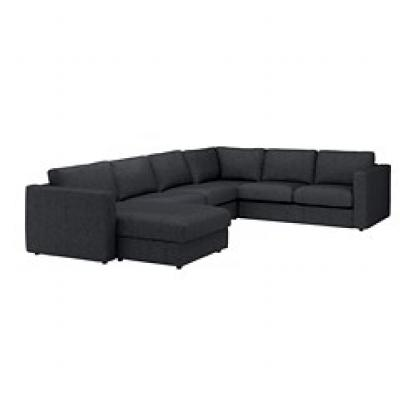Sofa: (15, 118, 396, 290)
